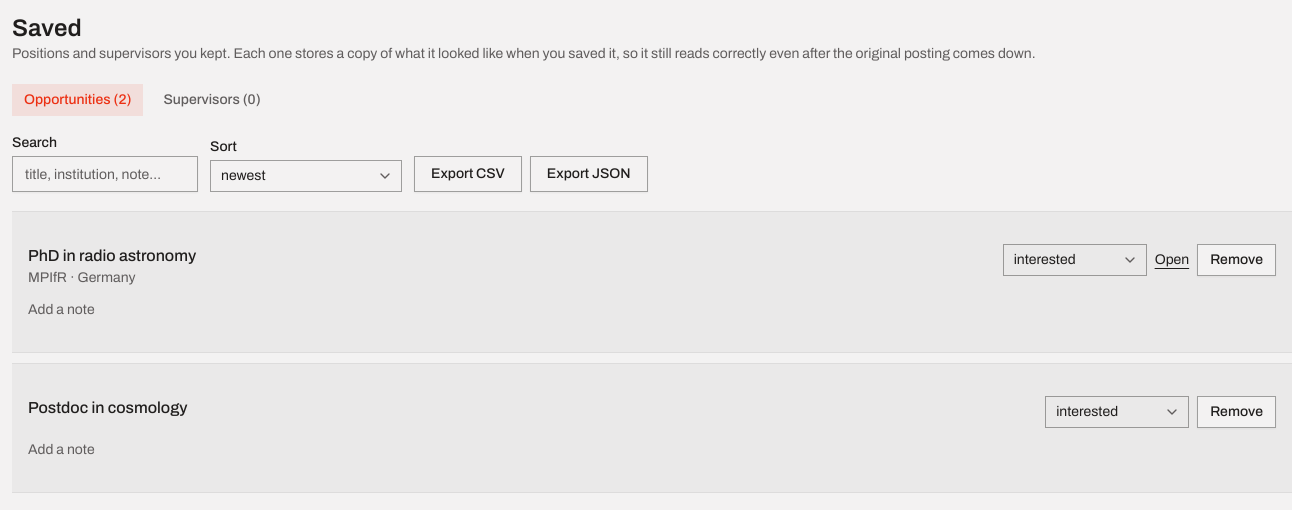
Test: Saved view › searches within the current tab
Type "cosmology" into the field labelled "Search" at (105,174), box [12,156,198,192]
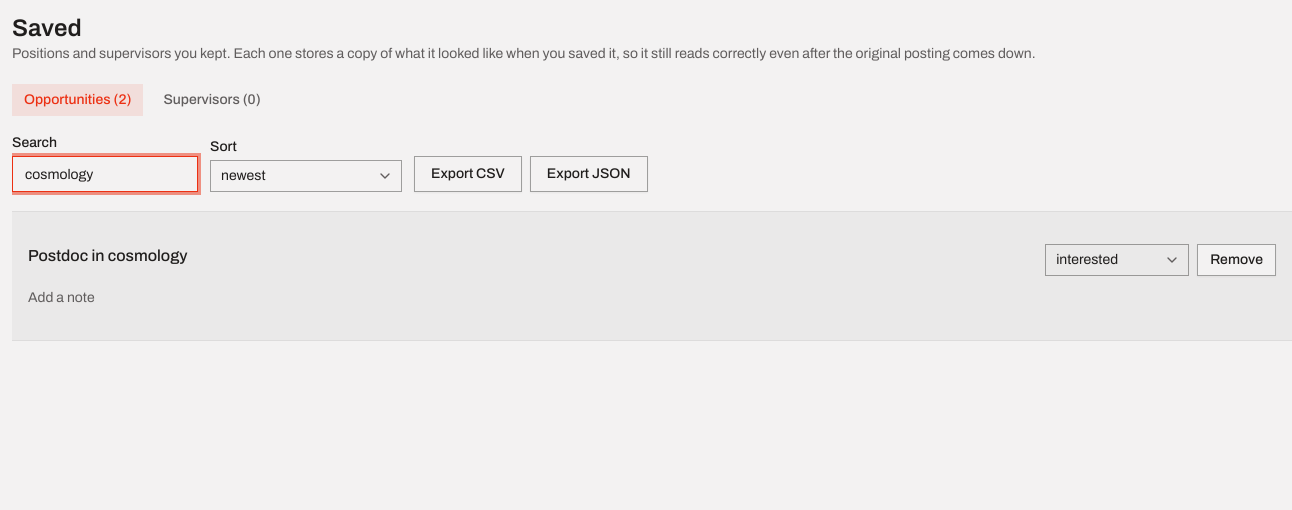
Expected: the heading "Postdoc in cosmology" is shown, [28,244,188,268]
Expected: the number of elements with test id "saved-card" is 1, [12,212,1291,340]
